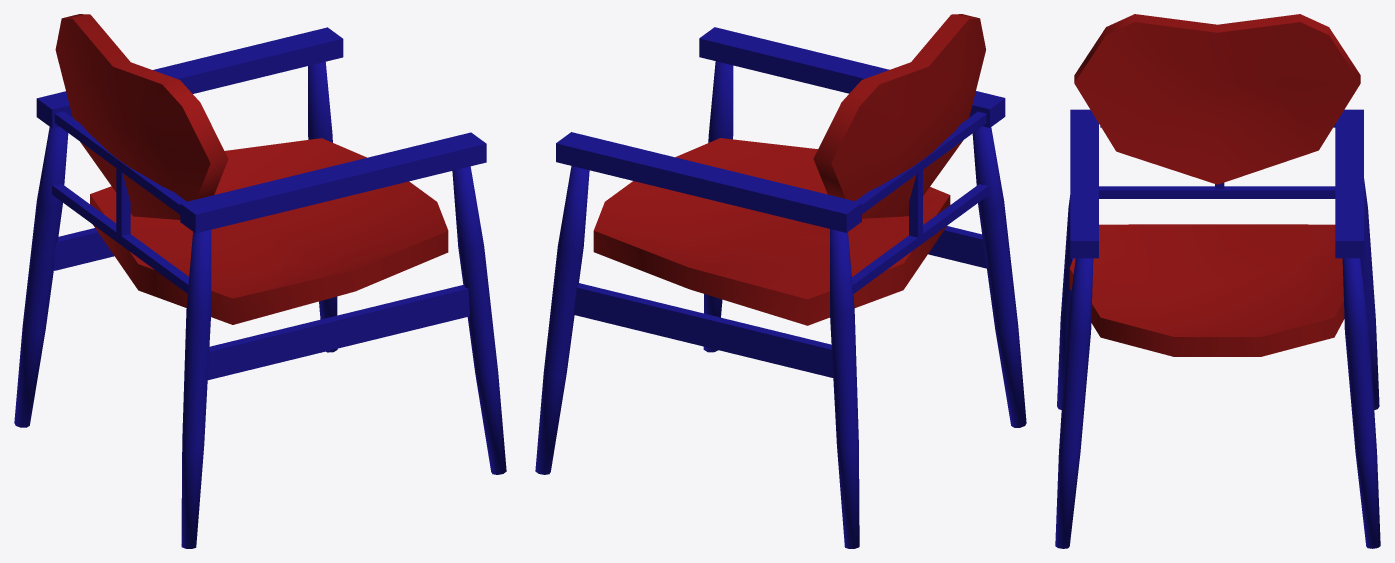
Rendered from SM_Chaise.FBX.
The picture shows the model from 3 angles, left to right: view 1: azimuth 30°, elevation 25°; view 2: azimuth 150°, elevation 25°; view 3: azimuth 270°, elevation 25°; orthographic projection. The views are drawn at different scales.
Parts seen in each view (by area): view 1: SM_Chaise; view 2: SM_Chaise; view 3: SM_Chaise.
Boxes of the visible parts, left/top/right/bottom form: SM_Chaise: left=14, top=14, right=506, bottom=548; SM_Chaise: left=535, top=14, right=1026, bottom=548; SM_Chaise: left=1055, top=14, right=1380, bottom=548.
Bounding box in the file's own units: 72.08 × 92.22 × 68.15.
